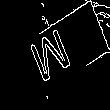M_SE: (30, 22, 80, 88)
